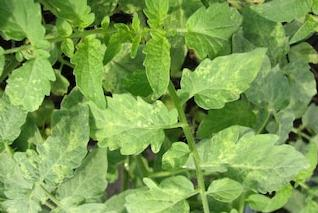Tomato leaf mosaic virus: (195, 127, 309, 194), (66, 94, 177, 158), (177, 45, 270, 110), (55, 141, 114, 212), (38, 104, 91, 181), (182, 0, 248, 56), (4, 45, 56, 116), (72, 34, 113, 111), (124, 173, 193, 213), (0, 0, 53, 50), (143, 32, 175, 101), (251, 0, 311, 27), (207, 176, 243, 202), (144, 0, 173, 30)
